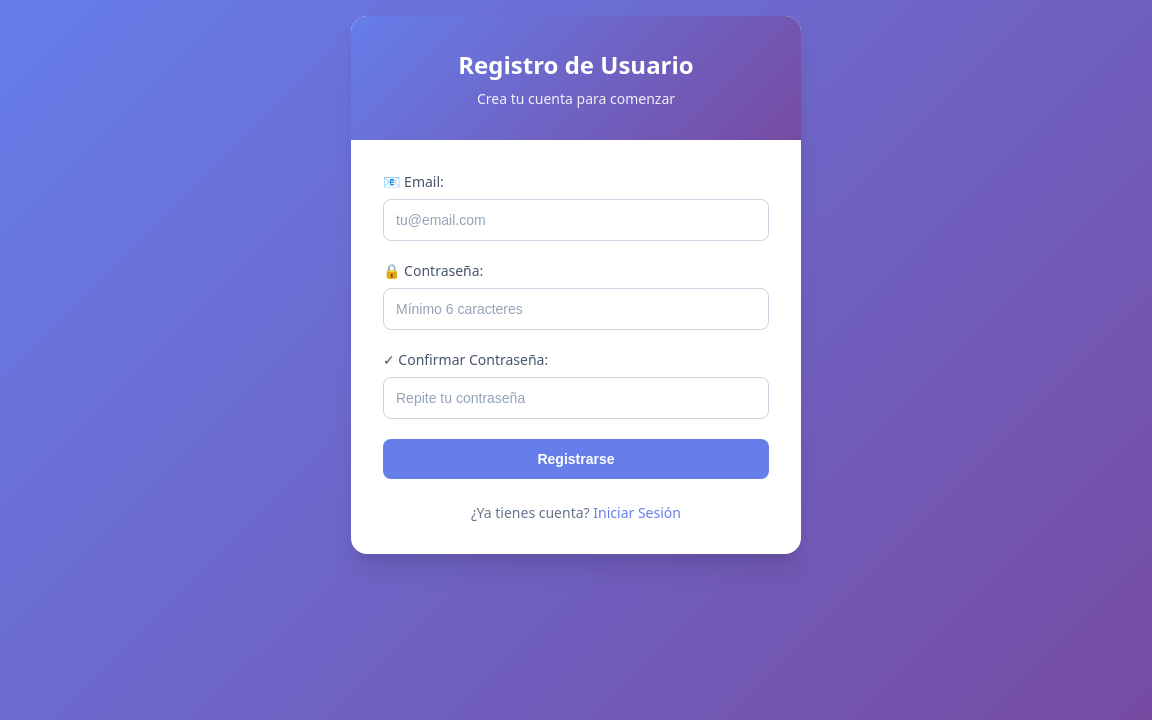
it: RegisterView.vue › valida longitud mínima de contraseña
This screenshot has width=1152, height=720.
Type "test@test.com" into the field with placeholder "tu@email.com" at {"x": 576, "y": 220}, box [383,199,769,241]
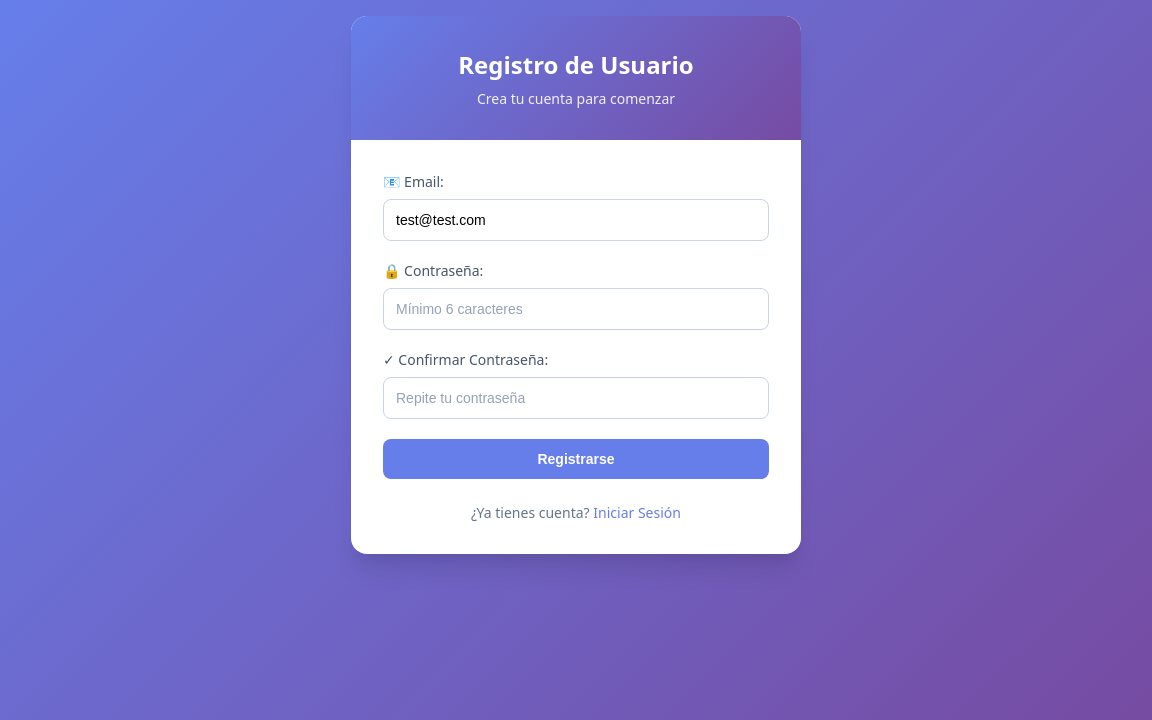
Type "123" into the password field with placeholder "Mínimo 6 caracteres" at {"x": 576, "y": 309}, box [383,288,769,330]
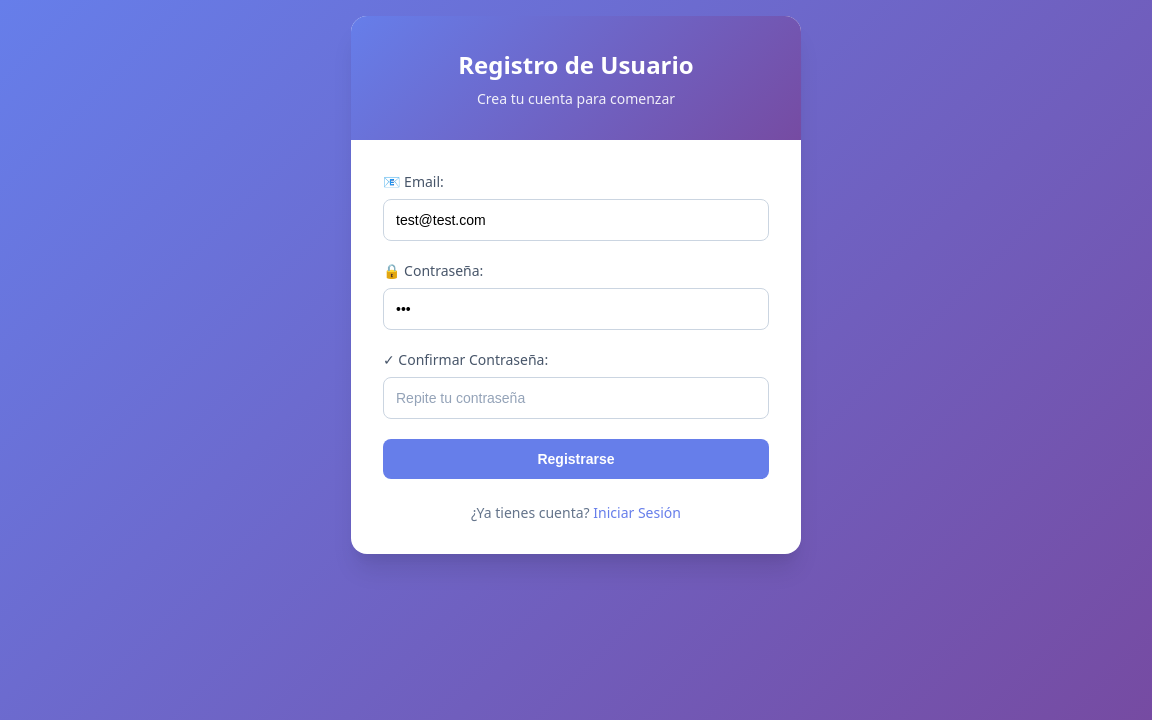
Type "123" into the password field with placeholder "Repite tu contraseña" at {"x": 576, "y": 398}, box [383,377,769,419]
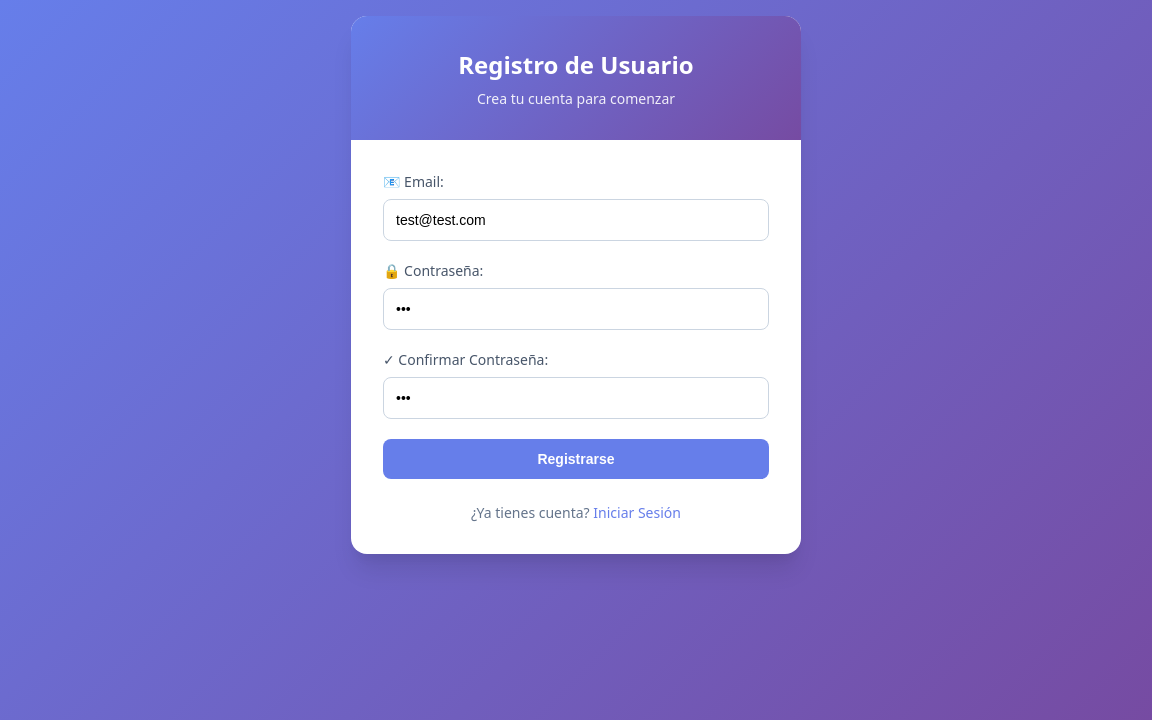
Submit the form, box [351,140,801,554]
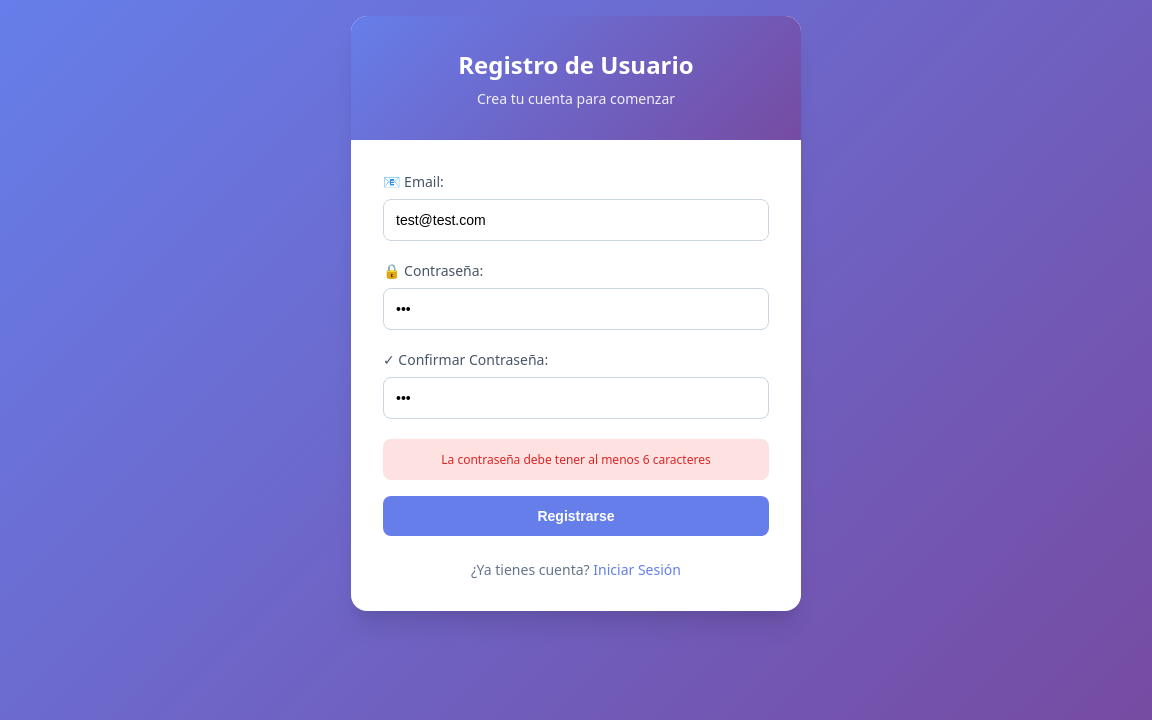
Expected: the text "La contraseña debe tener al menos 6 caracteres" is shown, [383,439,769,480]
Expected: the text with class "error-message" shows "6 caracteres", [441,451,711,468]
